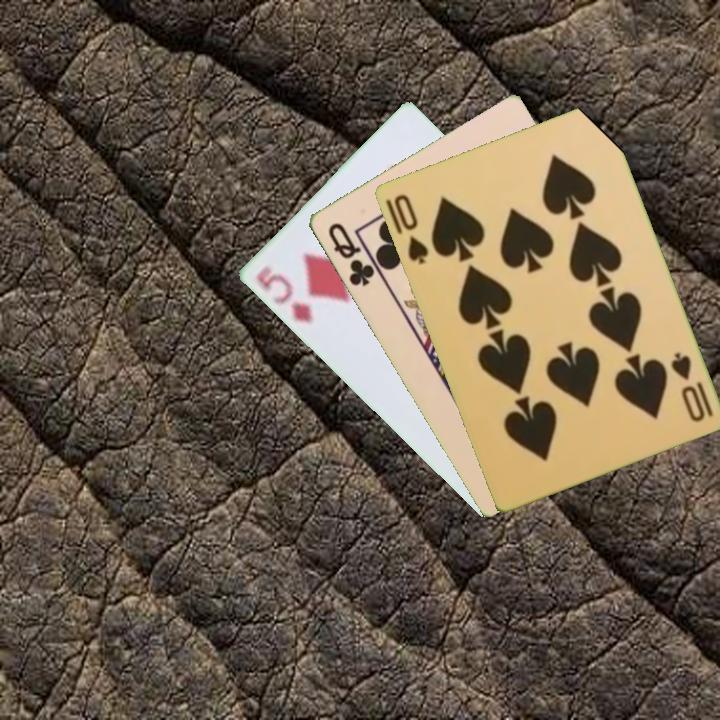10s: (666, 348, 716, 425), (390, 190, 431, 267)
5d: (251, 261, 315, 327)
Qc: (324, 218, 377, 289)
